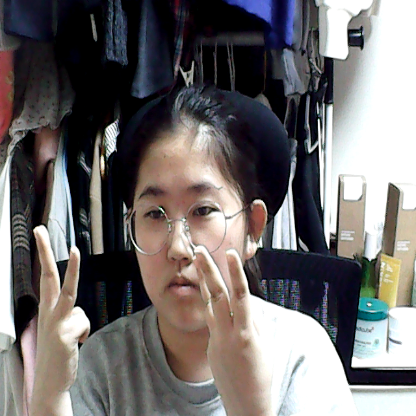Finger_2: (16, 220, 107, 399)
Finger_3: (189, 246, 274, 399)
